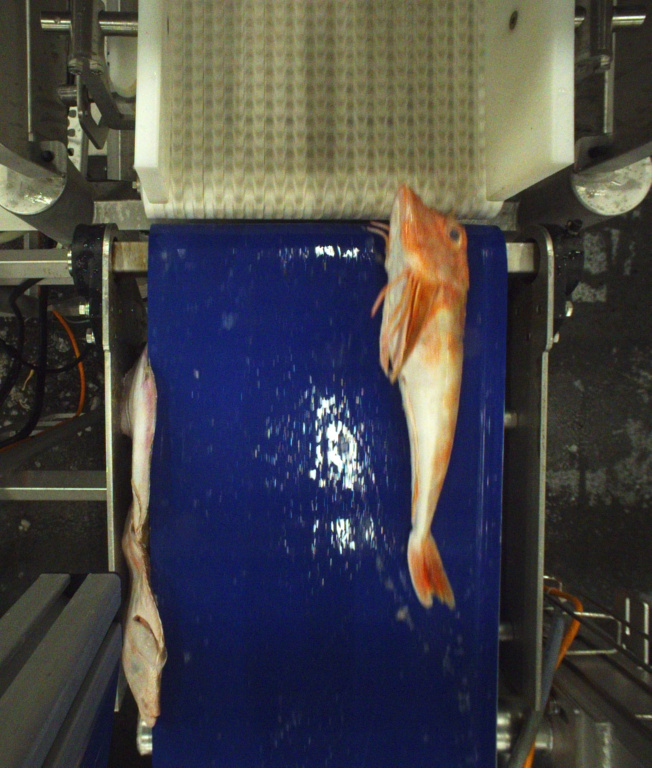GUU: (367, 184, 471, 611)
